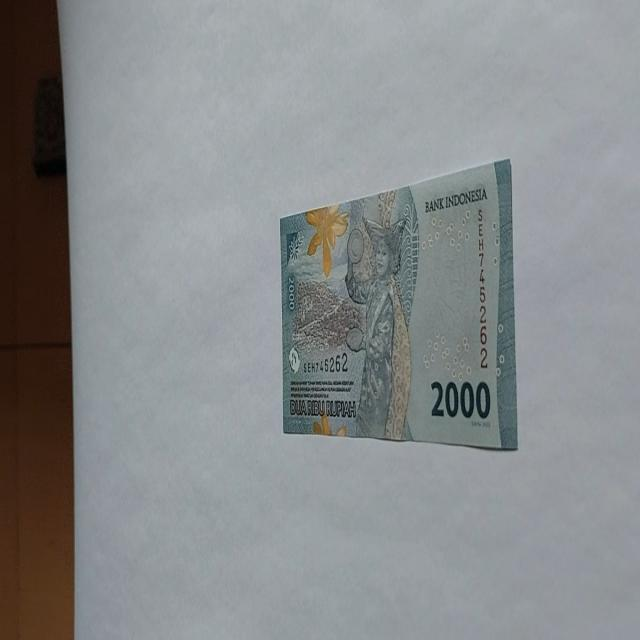dua ribu rupiah: (278, 157, 518, 450), (343, 198, 416, 440)
